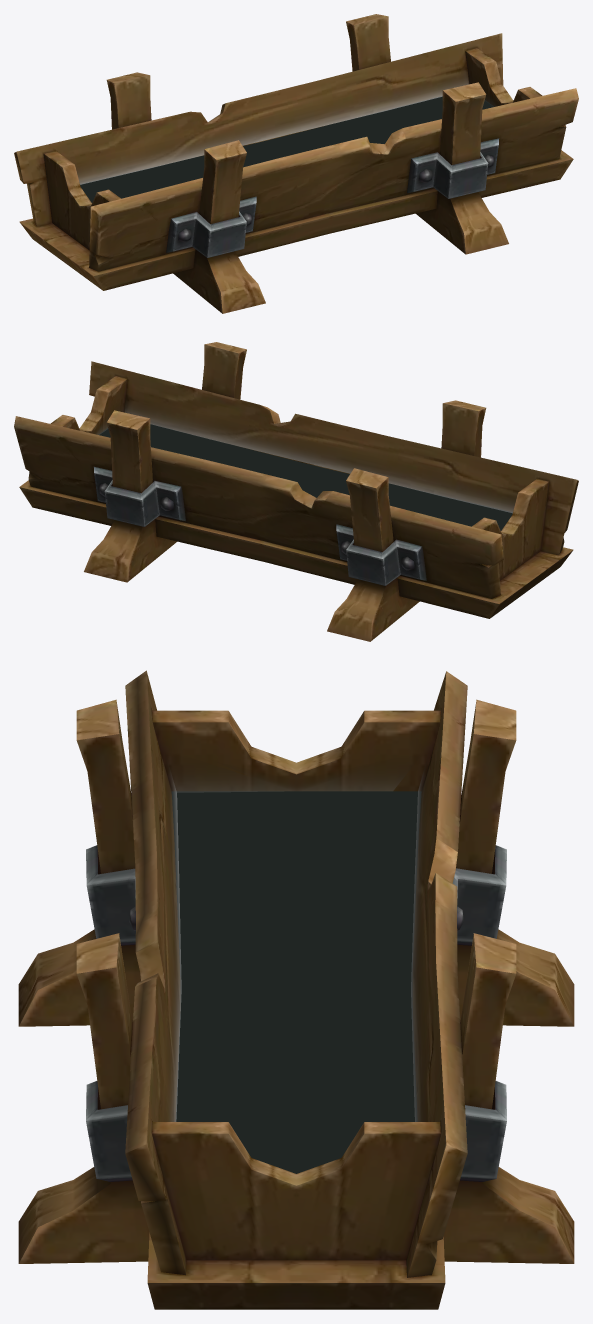
The picture shows the model from 3 angles, top to bottom: view 1: azimuth 30°, elevation 25°; view 2: azimuth 150°, elevation 25°; view 3: azimuth 270°, elevation 25°; orthographic projection. The views are drawn at different scales.
Bounding box in the file's own units: 7.75 × 2.21 × 3.83.
Materials: 4 (4 with a texture image).
